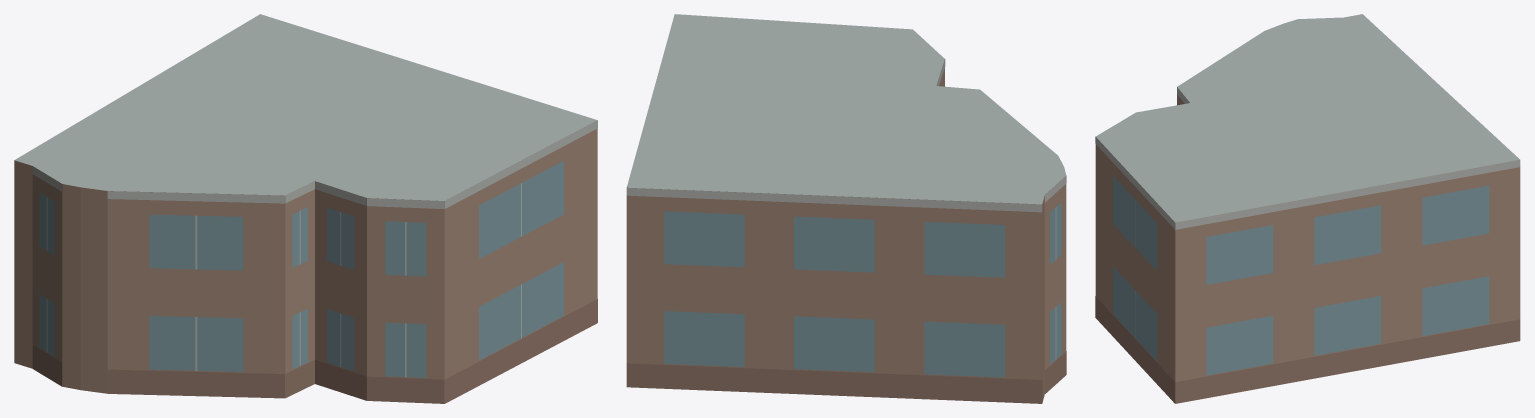
File: survey-upis-32657603.glb
3 renders of one model, left to right at view 1: azimuth 30°, elevation 25°; view 2: azimuth 150°, elevation 25°; view 3: azimuth 270°, elevation 25°, orthographic. The views are drawn at different scales.
Visible parts, largest first — view 1: survey-upis-32657603.tmp; view 2: survey-upis-32657603.tmp; view 3: survey-upis-32657603.tmp.
Part boxes in pixels (x1,y1,x2,y2): survey-upis-32657603.tmp: (14,14,597,403); survey-upis-32657603.tmp: (626,14,1066,403); survey-upis-32657603.tmp: (1095,14,1520,403).
Size of the model in its own units: 15.07 by 6.1 by 12.97.
